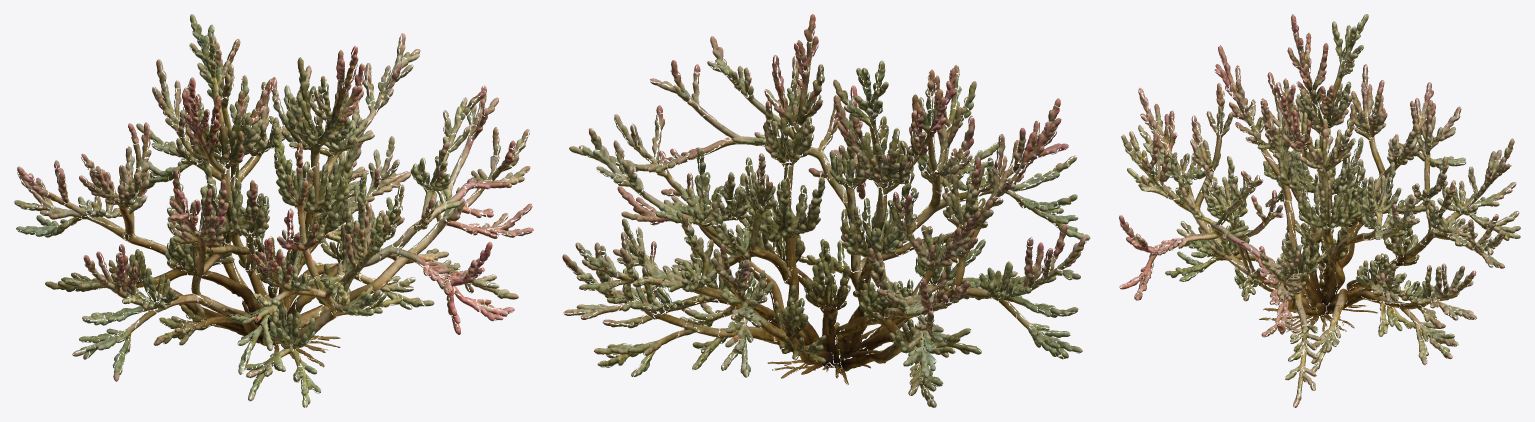
Rendered from tareeh.glb.
3 renders of one model, left to right at view 1: azimuth 30°, elevation 25°; view 2: azimuth 150°, elevation 25°; view 3: azimuth 270°, elevation 25°, orthographic. The views are drawn at different scales.
Parts seen in each view (by area): view 1: tripo_node_644e0532-c1d8-466c-b393-9e7fe491e93a; view 2: tripo_node_644e0532-c1d8-466c-b393-9e7fe491e93a; view 3: tripo_node_644e0532-c1d8-466c-b393-9e7fe491e93a.
Boxes of the visible parts, x1=… form: tripo_node_644e0532-c1d8-466c-b393-9e7fe491e93a: x1=14, y1=14, x2=533, y2=407; tripo_node_644e0532-c1d8-466c-b393-9e7fe491e93a: x1=562, y1=14, x2=1090, y2=407; tripo_node_644e0532-c1d8-466c-b393-9e7fe491e93a: x1=1119, y1=14, x2=1520, y2=407.
Size of the model in its own units: 0.9816 by 0.6649 by 0.8721.
1 material, 1 textured.
